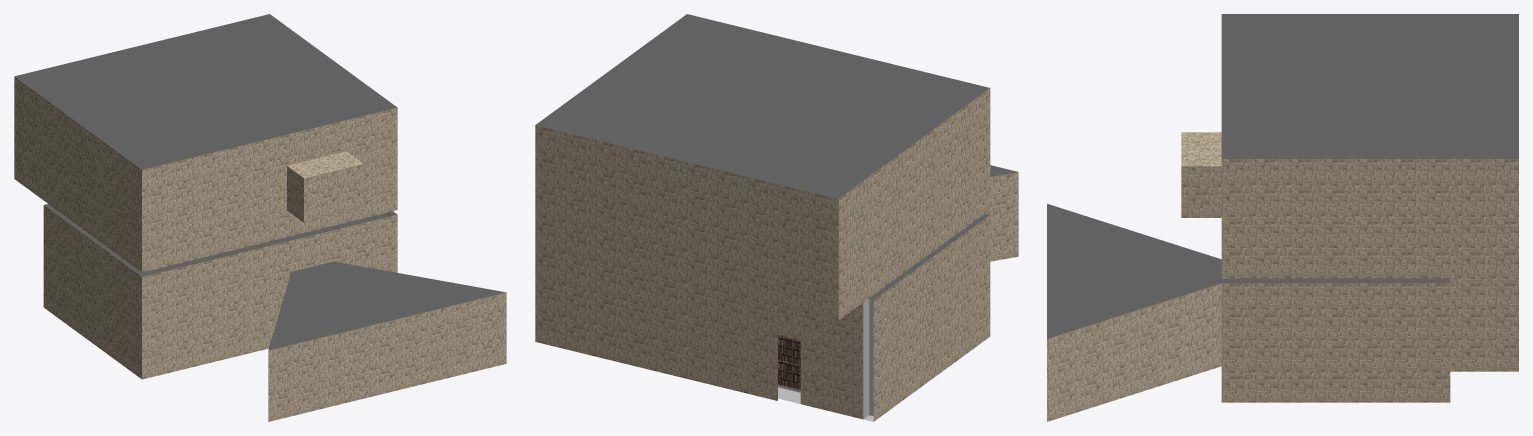
Rendered from s0_playerhomegraph.fbx.
3 renders of one model, left to right at view 1: azimuth 30°, elevation 25°; view 2: azimuth 150°, elevation 25°; view 3: azimuth 270°, elevation 25°, orthographic. The views are drawn at different scales.
Parts seen in each view (by area): view 1: mesh_122; view 2: mesh_122; view 3: mesh_122.
Part boxes in pixels (x1,y1,x2,y2): mesh_122: [14, 14, 506, 421]; mesh_122: [535, 14, 1018, 421]; mesh_122: [1047, 14, 1518, 421].
Bounding box in the file's own units: 1088 × 752 × 1320.
